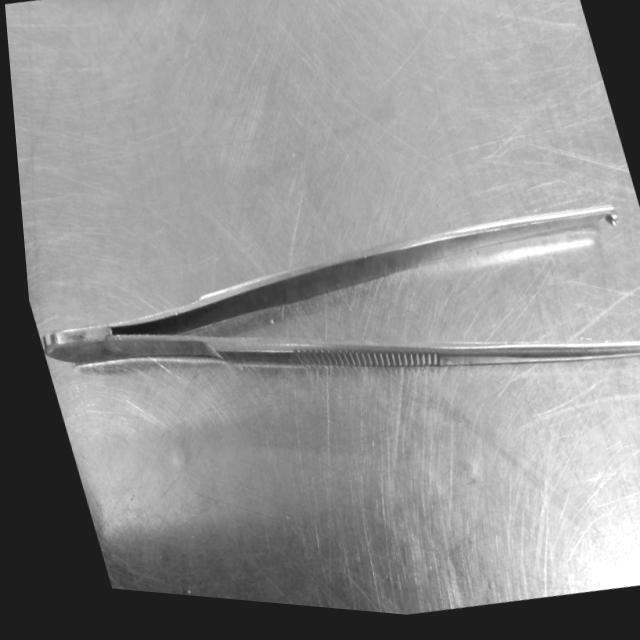General: (2, 0, 640, 617)
Sharps: (44, 202, 620, 351), (42, 324, 640, 369)
